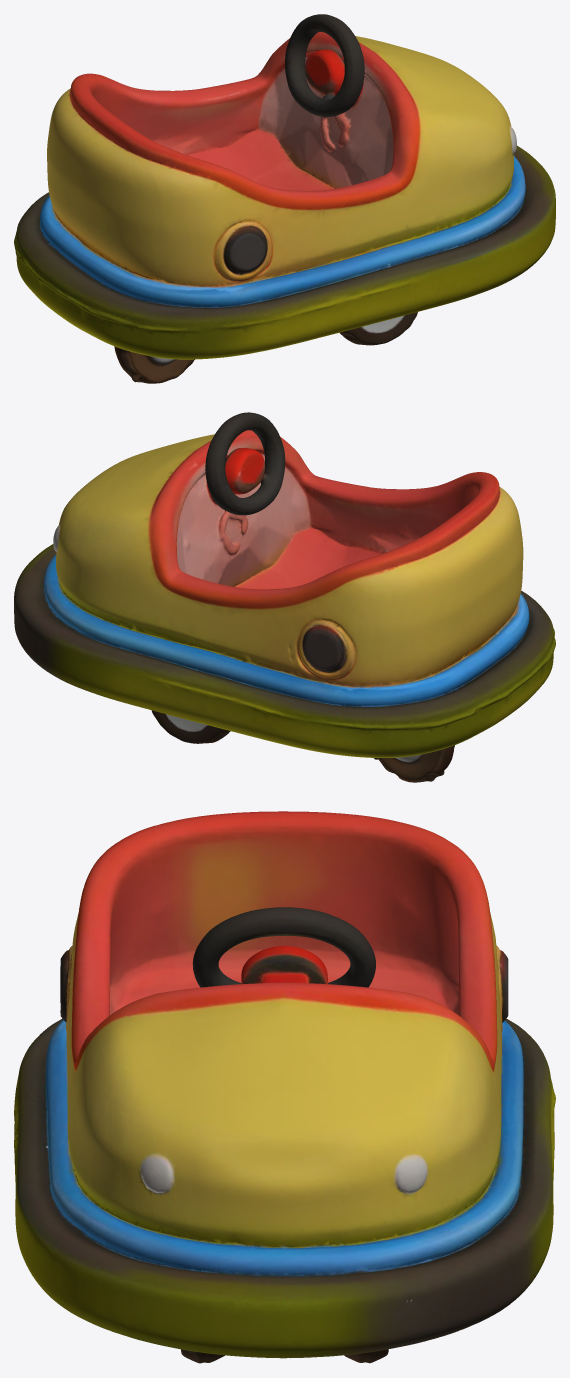
The model's file is colorful-toy-bumper-car-with-rounded-rubber-bumper.glb.
3 renders of one model, top to bottom at view 1: azimuth 30°, elevation 25°; view 2: azimuth 150°, elevation 25°; view 3: azimuth 270°, elevation 25°, orthographic. The views are drawn at different scales.
Visible parts, largest first — view 1: tripo_node_185d0ab4-12b4-421c-9ac1-5ffc3298d14d; view 2: tripo_node_185d0ab4-12b4-421c-9ac1-5ffc3298d14d; view 3: tripo_node_185d0ab4-12b4-421c-9ac1-5ffc3298d14d.
Boxes of the visible parts, left/top/right/bottom form: tripo_node_185d0ab4-12b4-421c-9ac1-5ffc3298d14d: left=14, top=14, right=555, bottom=383; tripo_node_185d0ab4-12b4-421c-9ac1-5ffc3298d14d: left=14, top=412, right=555, bottom=782; tripo_node_185d0ab4-12b4-421c-9ac1-5ffc3298d14d: left=14, top=811, right=555, bottom=1363.
Bounding box in the file's own units: 1 × 0.6345 × 0.6824.
1 material, 1 textured.
